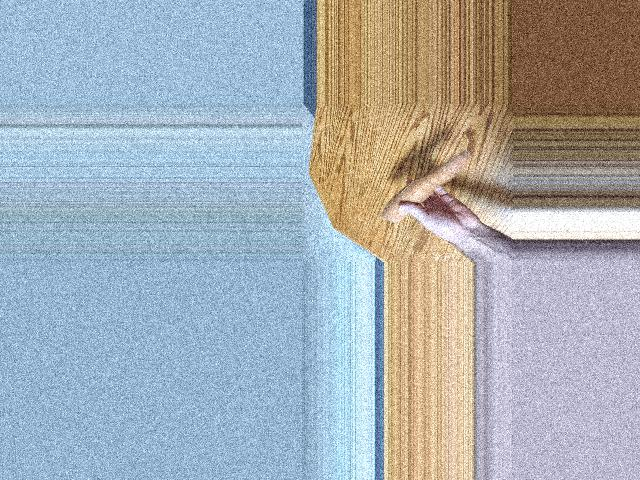sweet_potato: (389, 153, 470, 224)
